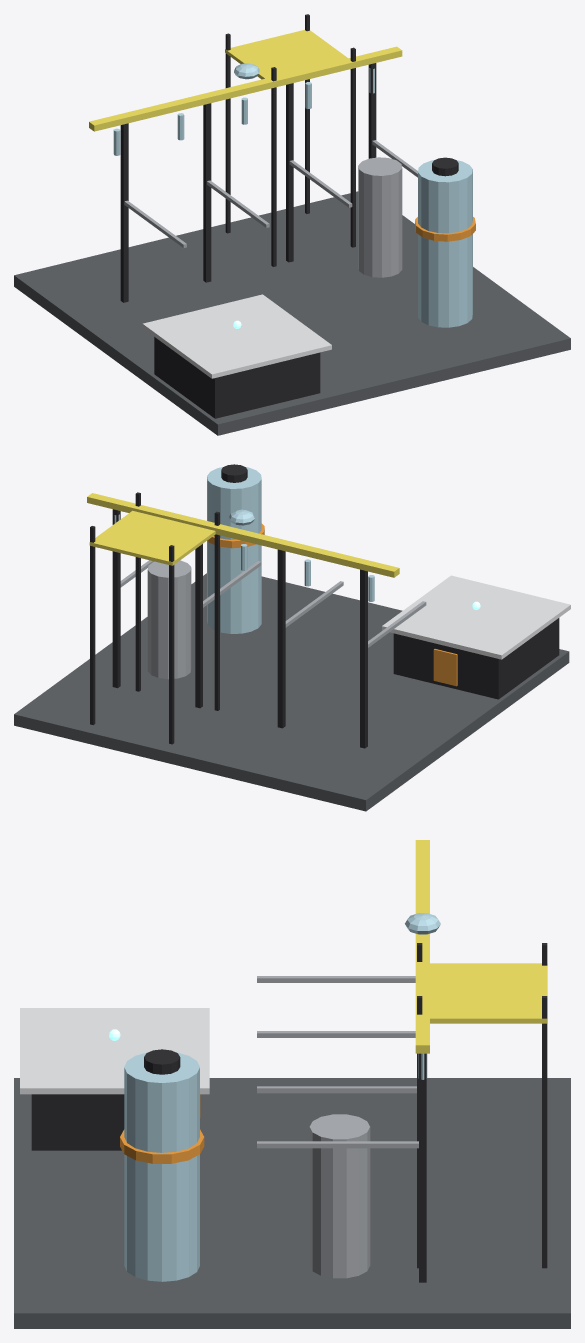
The model's file is SM_Hero_ClimateLoom.glb.
3 renders of one model, top to bottom at view 1: azimuth 30°, elevation 25°; view 2: azimuth 150°, elevation 25°; view 3: azimuth 270°, elevation 25°, orthographic. The views are drawn at different scales.
Parts seen in each view (by area): view 1: SM_Hero_ClimateLoom; view 2: SM_Hero_ClimateLoom; view 3: SM_Hero_ClimateLoom.
Part boxes in pixels (box(x1,y1,x2,y2)): SM_Hero_ClimateLoom: box(14, 14, 570, 435); SM_Hero_ClimateLoom: box(14, 464, 570, 811); SM_Hero_ClimateLoom: box(14, 840, 570, 1328).
Bounding box in the file's own units: 8.55 × 4.99 × 8.46.
